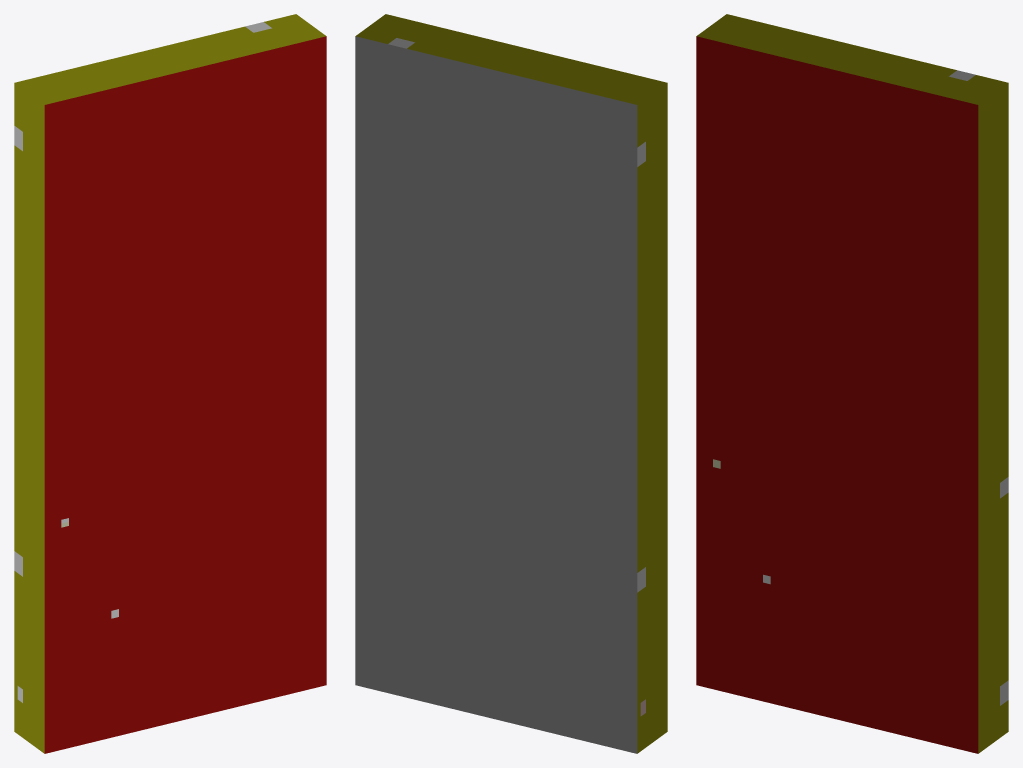
The model's file is idf.obj.
3 views of the same model, side by side, from view 1: azimuth 30°, elevation 25°; view 2: azimuth 150°, elevation 25°; view 3: azimuth 330°, elevation 25° (orthographic).
Bounding box in the file's own units: 45.72 × 101 × 8.53.
